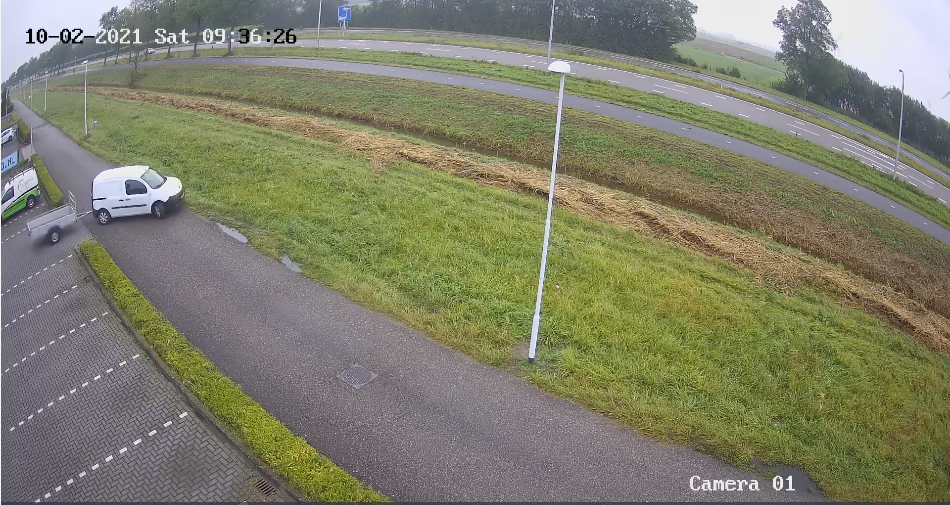werkbus: (85, 159, 198, 222)
